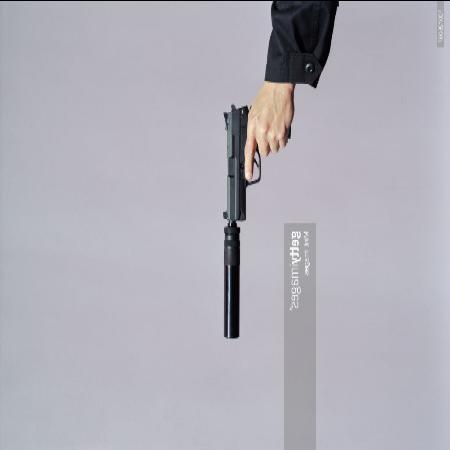Pistol: (220, 101, 285, 339)
